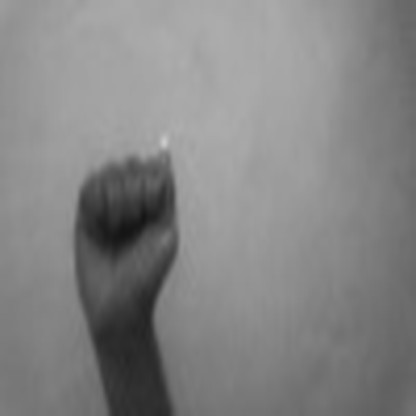a: (68, 140, 184, 340)
